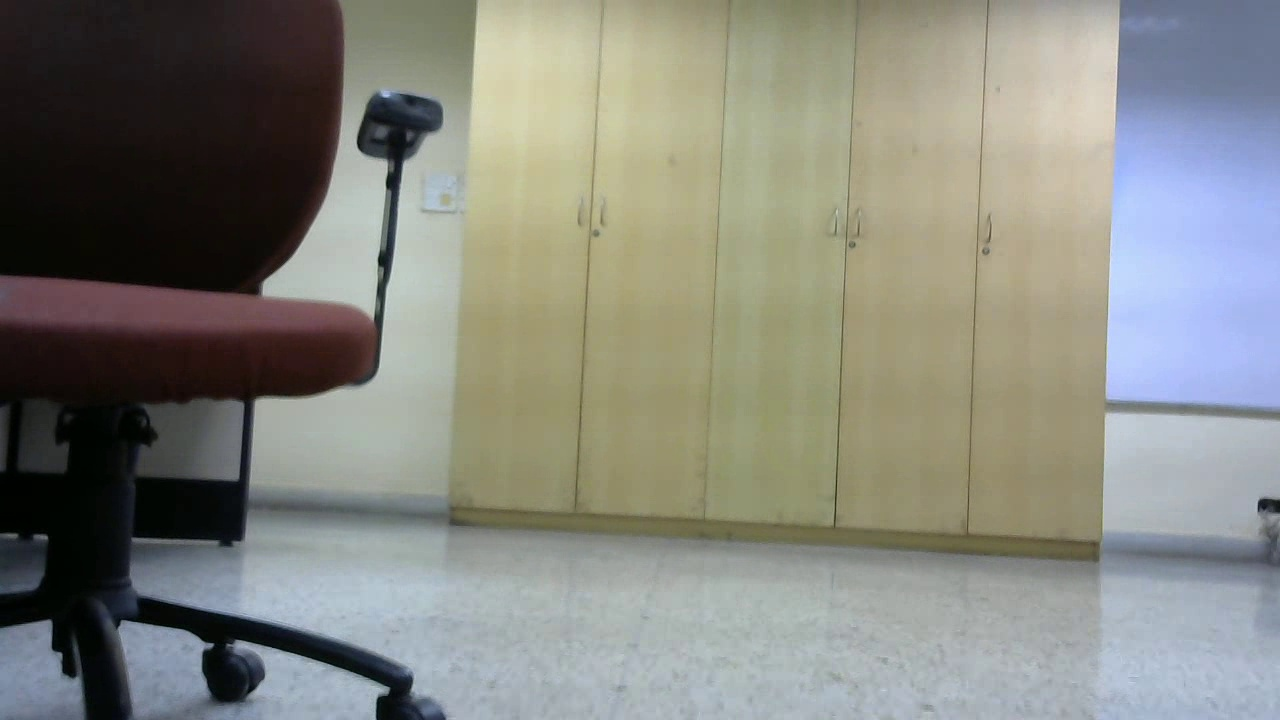chair: (716, 192, 1029, 596), (316, 162, 520, 533)
